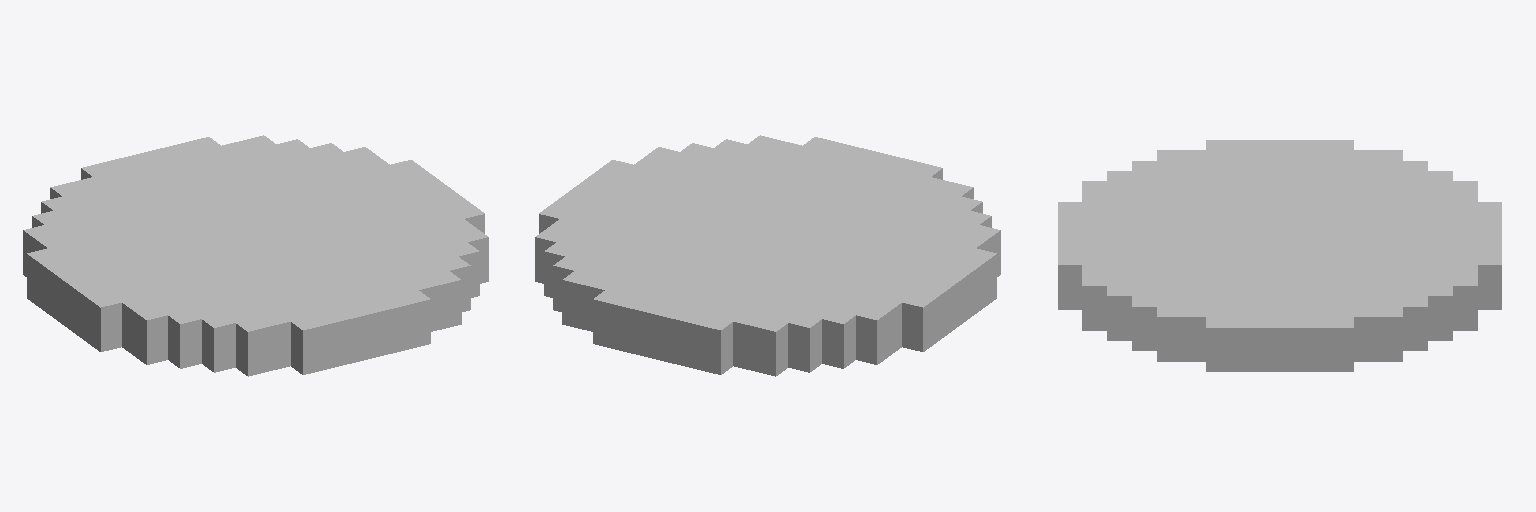
The model's file is coin.vox.obj.
The picture shows the model from 3 angles: view 1: azimuth 30°, elevation 25°; view 2: azimuth 150°, elevation 25°; view 3: azimuth 270°, elevation 25°; orthographic projection.
Visible parts, largest first — view 1: object 1; view 2: object 1; view 3: object 1.
Boxes of the visible parts, <box> form: object 1: <box>23,135,488,376</box>; object 1: <box>535,135,1000,376</box>; object 1: <box>1058,140,1501,371</box>.
Bounding box in the file's own units: 1.8 × 0.2 × 1.8.